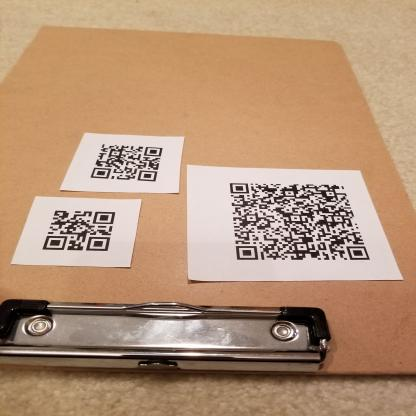qr: (222, 176, 372, 265), (38, 205, 118, 254), (92, 141, 169, 184)
